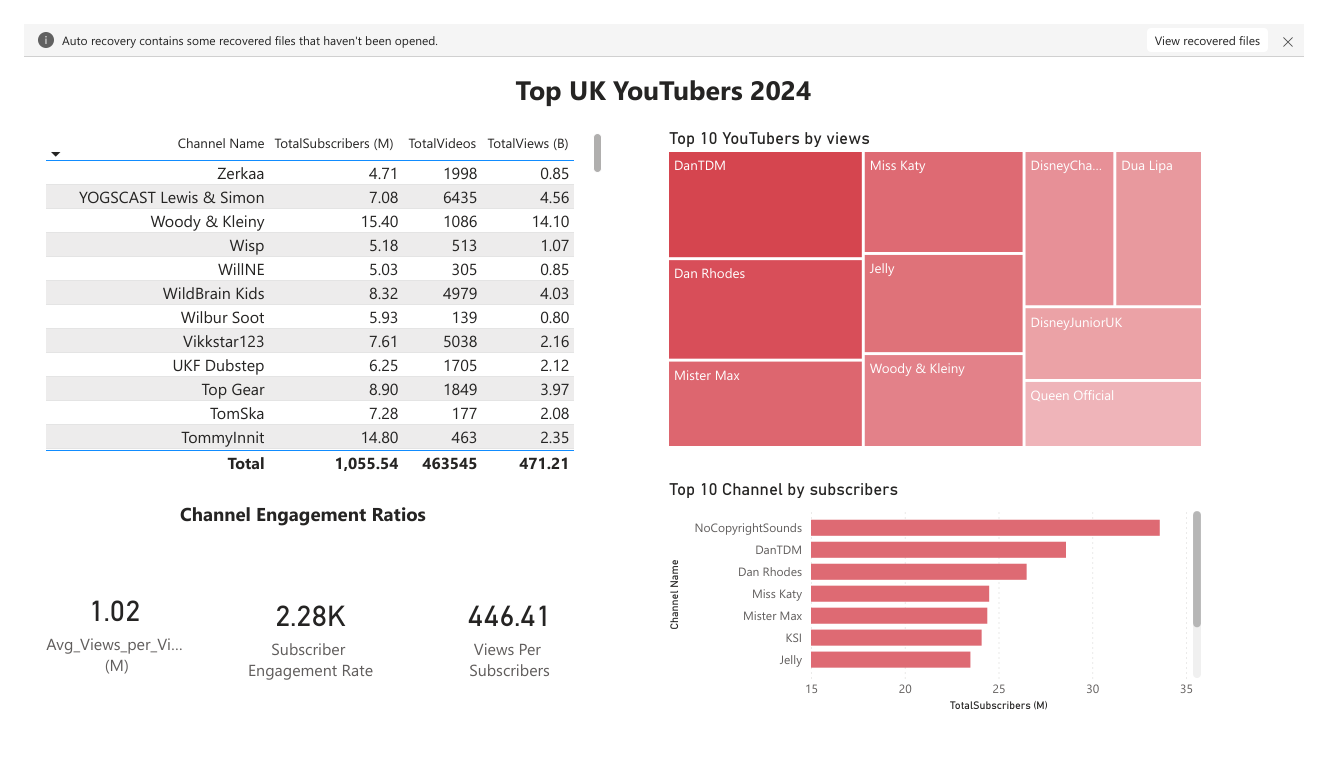

Layout of this report page (visuals, bound fields, positions):
{"tool":"powerbi","page":{"name":"Page 1","canvas":[1280,720],"ordinal":0},"visuals":[{"type":"textbox","box":[480.5,41.8,318.1,62.2],"z":0},{"type":"tableEx","fields":{"Values":["youtuber_db view_uk_youtubers_2024.Channel_name","youtuber_db view_uk_youtubers_2024.TotalSubscribers (M)","youtuber_db view_uk_youtubers_2024.TotalVideos","youtuber_db view_uk_youtubers_2024.TotalViews (B)"]},"box":[15.6,104.1,567.1,351.1],"z":1000},{"type":"treemap","title":"Top 10 YouTubers by views","fields":{"Group":["youtuber_db view_uk_youtubers_2024.Channel_name"],"Values":["youtuber_db view_uk_youtubers_2024.TotalViews (B)"]},"box":[640,104.1,541.8,322.9],"z":1001},{"type":"card","fields":{"Values":["youtuber_db view_uk_youtubers_2024.Avg_Views_per_Video (M)"]},"box":[15.6,497,149.8,195.5],"z":1002},{"type":"card","fields":{"Values":["youtuber_db view_uk_youtubers_2024.Subscriber Engagement Rate"]},"box":[213,507.7,146.9,184.8],"z":1003},{"type":"card","fields":{"Values":["youtuber_db view_uk_youtubers_2024.Views Per Subscribers"]},"box":[406.6,507.7,157.6,184.8],"z":1004},{"type":"clusteredBarChart","title":"Top 10 Channel by subscribers","fields":{"Category":["youtuber_db view_uk_youtubers_2024.Channel_name"],"Y":["youtuber_db view_uk_youtubers_2024.TotalSubscribers (M)"]},"box":[640,455,542,237],"z":1005},{"type":"textbox","box":[150.8,471.7,255.8,36],"z":1006}]}

Visuals, with their boxes on the page's 1280x720 design canvas (x1, y1, x2, y2). These are canvas units, not pixel positions in the 1328x768 screenshot, which may show the page scaled, cropped or inside an application window:
textbox: 480/42/799/104
tableEx - youtuber_db view_uk_youtubers_2024.Channel_name x youtuber_db view_uk_youtubers_2024.TotalSubscribers (M): 16/104/583/455
"Top 10 YouTubers by views" treemap: 640/104/1182/427
card - youtuber_db view_uk_youtubers_2024.Avg_Views_per_Video (M): 16/497/165/692
card - youtuber_db view_uk_youtubers_2024.Subscriber Engagement Rate: 213/508/360/692
card - youtuber_db view_uk_youtubers_2024.Views Per Subscribers: 407/508/564/692
"Top 10 Channel by subscribers" clusteredBarChart: 640/455/1182/692
textbox: 151/472/407/508
